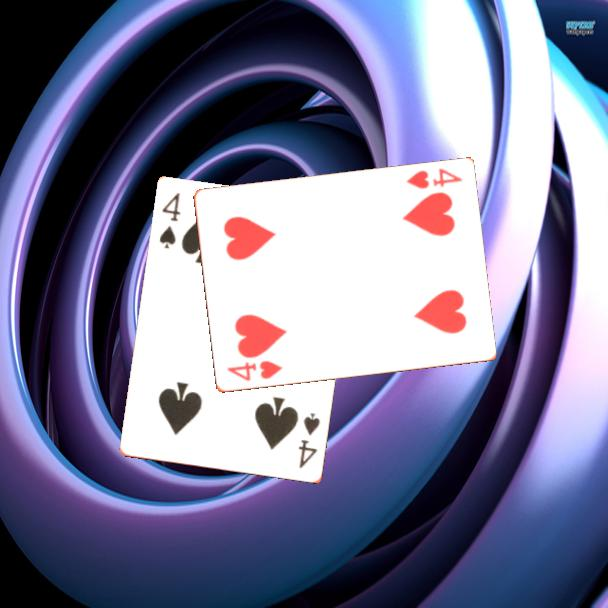h04: (402, 165, 465, 192), (223, 357, 285, 384)
s04: (156, 189, 184, 252), (295, 409, 323, 471)
